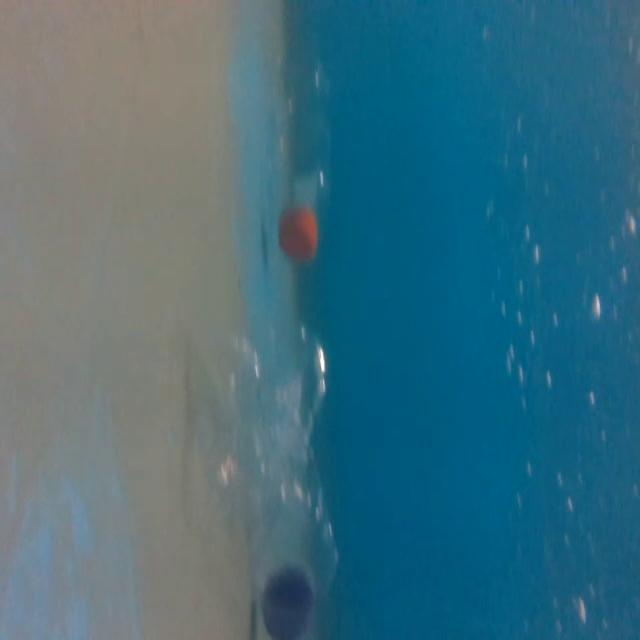plastic bottle: (191, 313, 353, 640), (258, 35, 343, 277)
